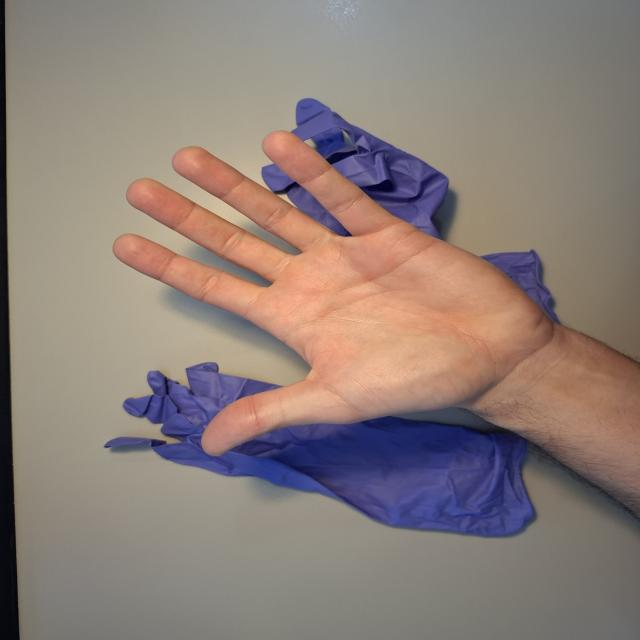glove_off: (107, 128, 563, 458)
